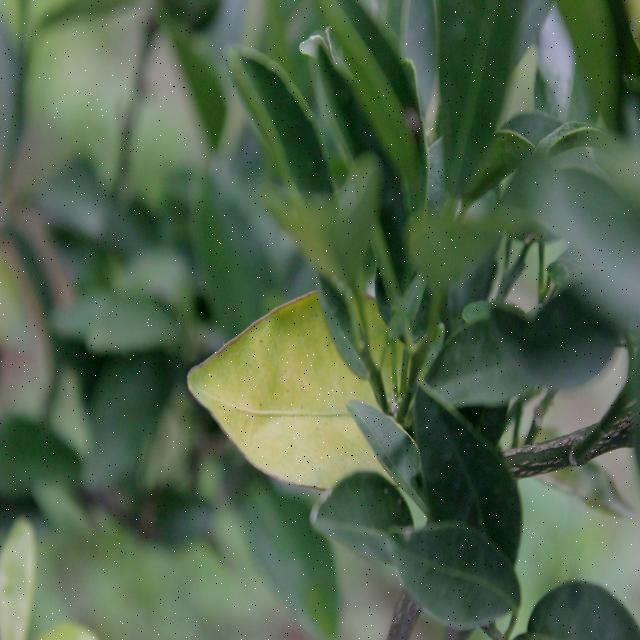blackspot: (212, 298, 382, 475)
